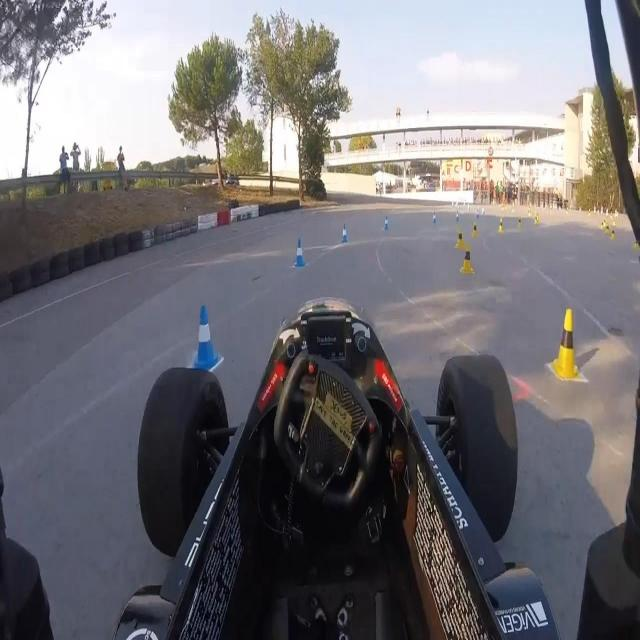blue_cone: (186, 305, 220, 378), (292, 236, 306, 271), (340, 222, 349, 246), (382, 214, 390, 232), (432, 211, 438, 225), (455, 210, 460, 222), (476, 209, 479, 219)
yellow_cone: (549, 301, 580, 380), (460, 243, 474, 275), (455, 228, 464, 250), (471, 220, 479, 239), (498, 217, 504, 233), (516, 215, 522, 231), (610, 228, 616, 241), (606, 224, 610, 235), (535, 216, 537, 225)
